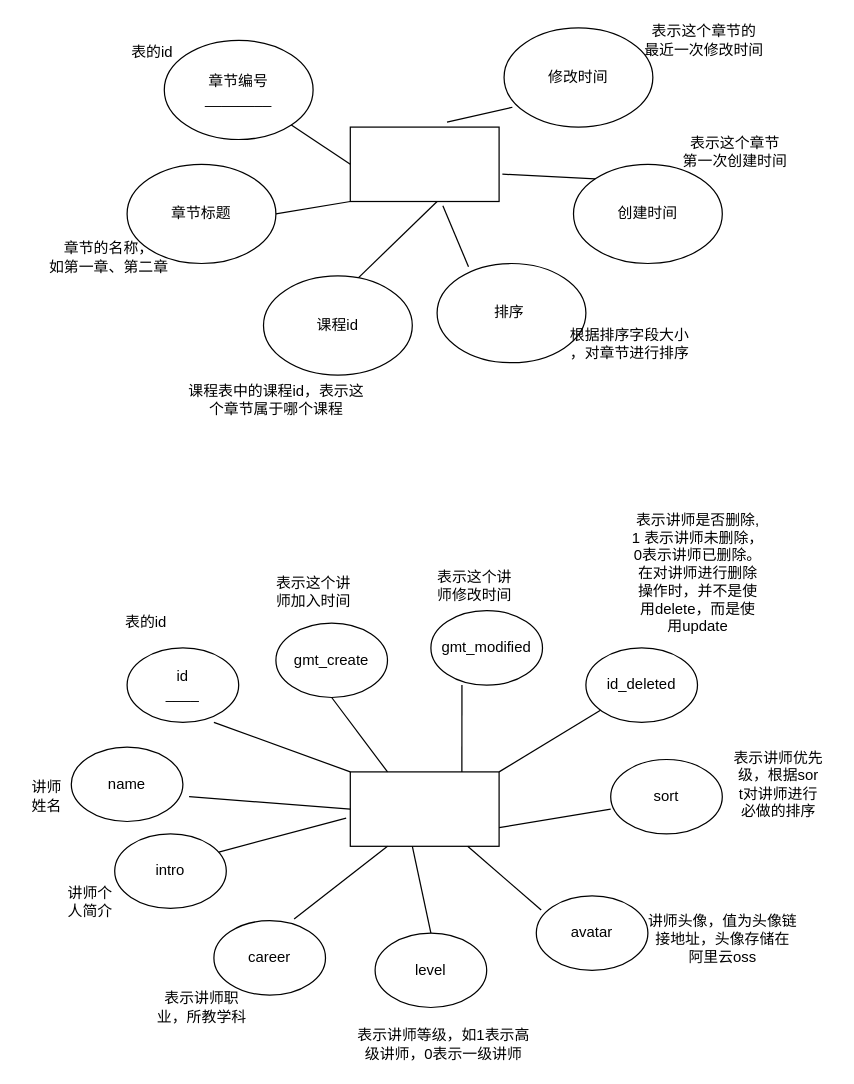
Some shapes in this 854 by 1084 pixel diagram are drawn without their labels. Here are the shapes that lost their labels. From the top down, the centre of each, then its label:
[424,164]: 章节
[424,808]: 讲师
